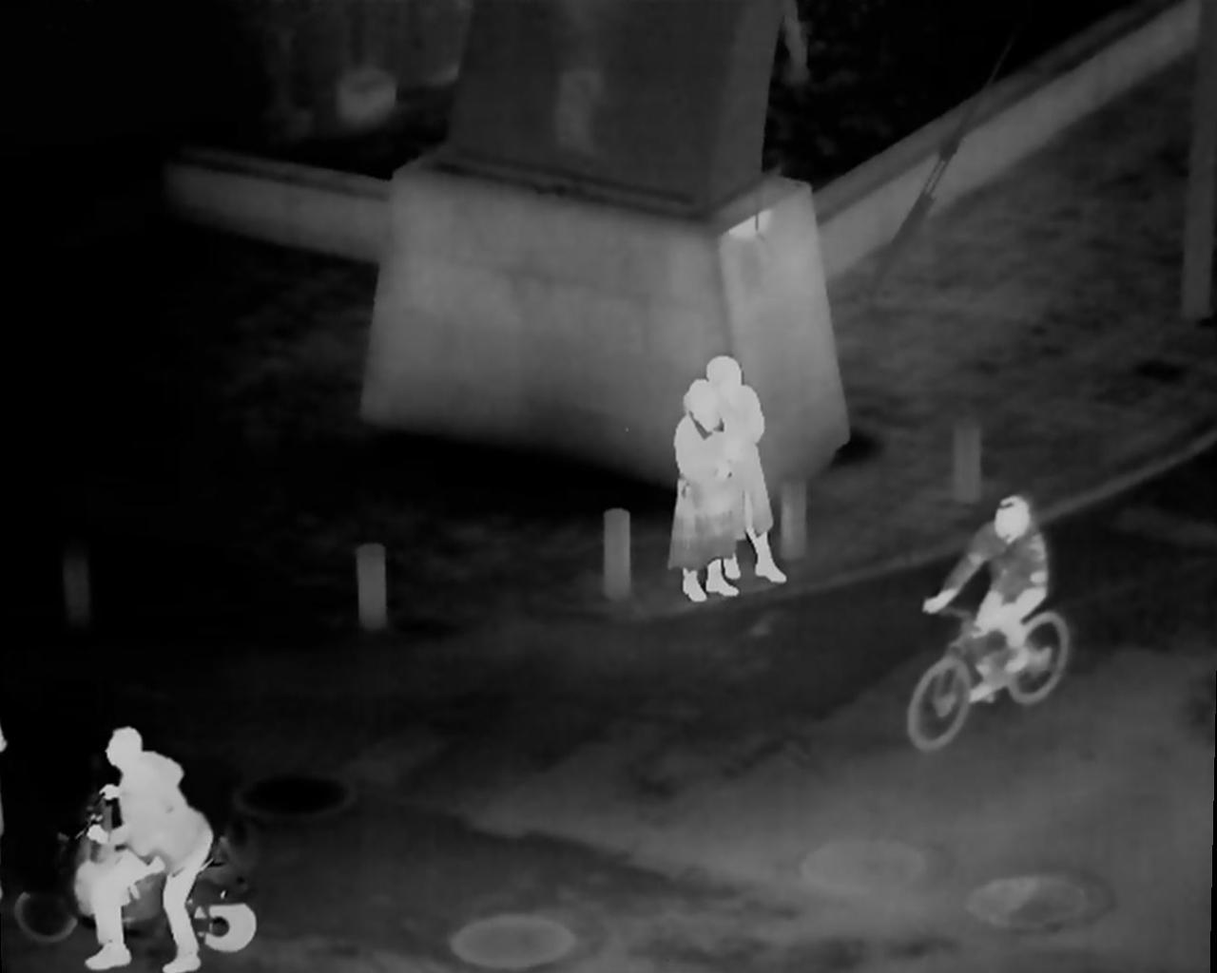person: (927, 489, 1050, 704), (118, 753, 217, 973), (80, 726, 166, 969), (703, 354, 789, 586), (671, 380, 730, 604)
